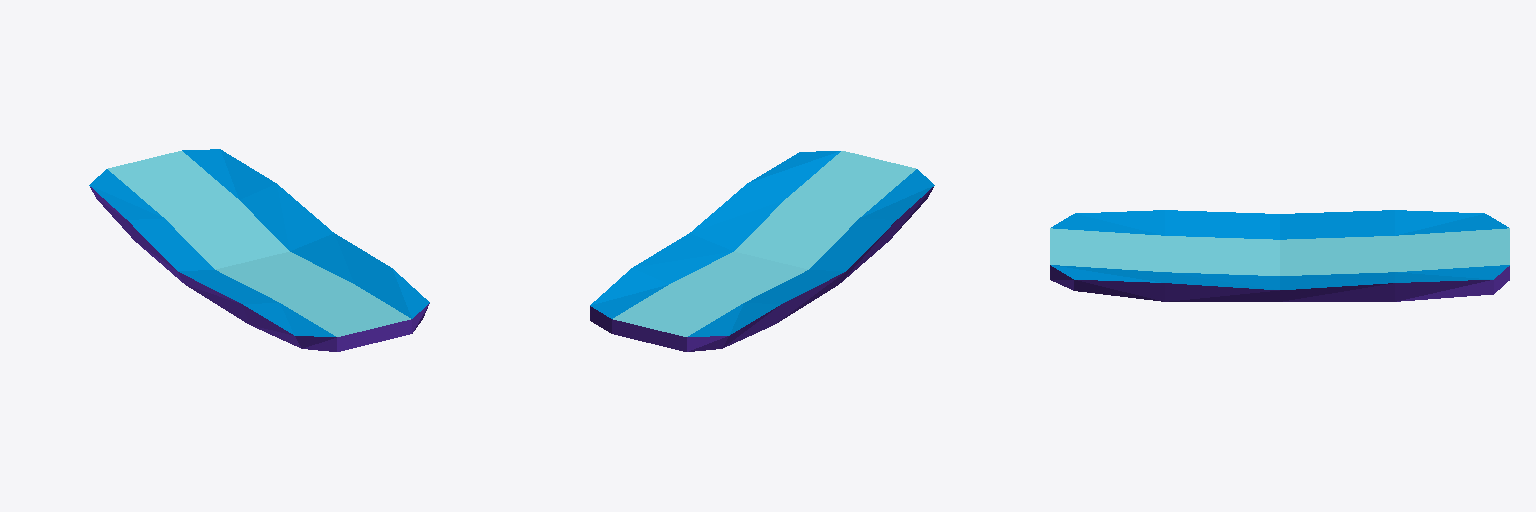
The picture shows the model from 3 angles: view 1: azimuth 30°, elevation 25°; view 2: azimuth 150°, elevation 25°; view 3: azimuth 270°, elevation 25°; orthographic projection.
Parts seen in each view (by area): view 1: group[number redacted]; view 2: group[number redacted]; view 3: group[number redacted].
Boxes of the visible parts, box(x1,y1,x2,y2) form: group[number redacted]: box(89, 149, 429, 351); group[number redacted]: box(590, 151, 934, 351); group[number redacted]: box(1050, 210, 1509, 301).
Bounding box in the file's own units: 0.22 × 0.03 × 0.56.